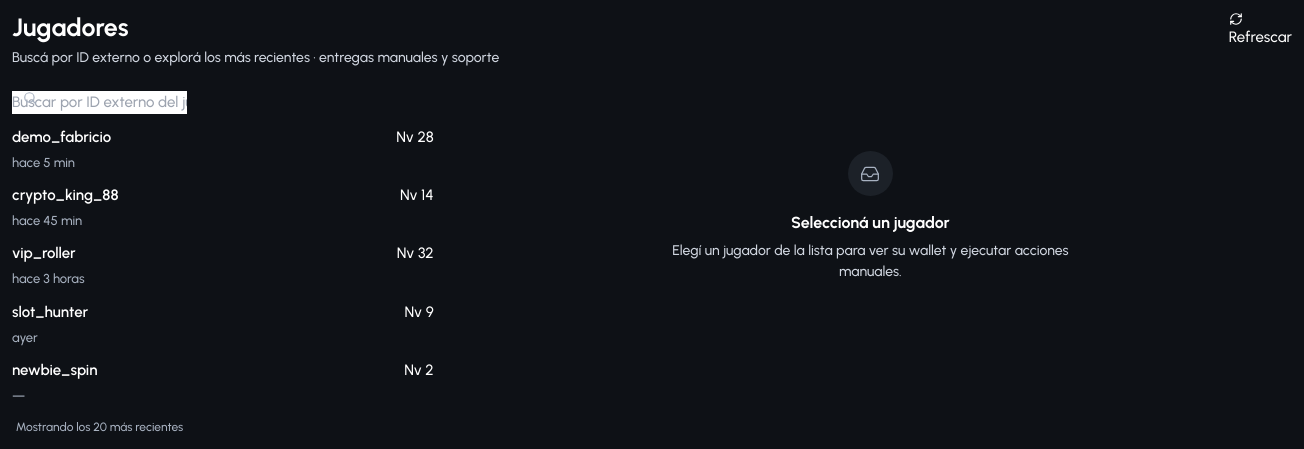
PlayersPage search › filtra jugadores por ID externo con debounce
expect the text "demo_fabricio" is shown: met, box 12,126 -> 111,149
Type "vip" into the field with placeholder "Buscar por ID externo del jugador...".
click(100, 103); type("vip")  # box 12,91 -> 187,114
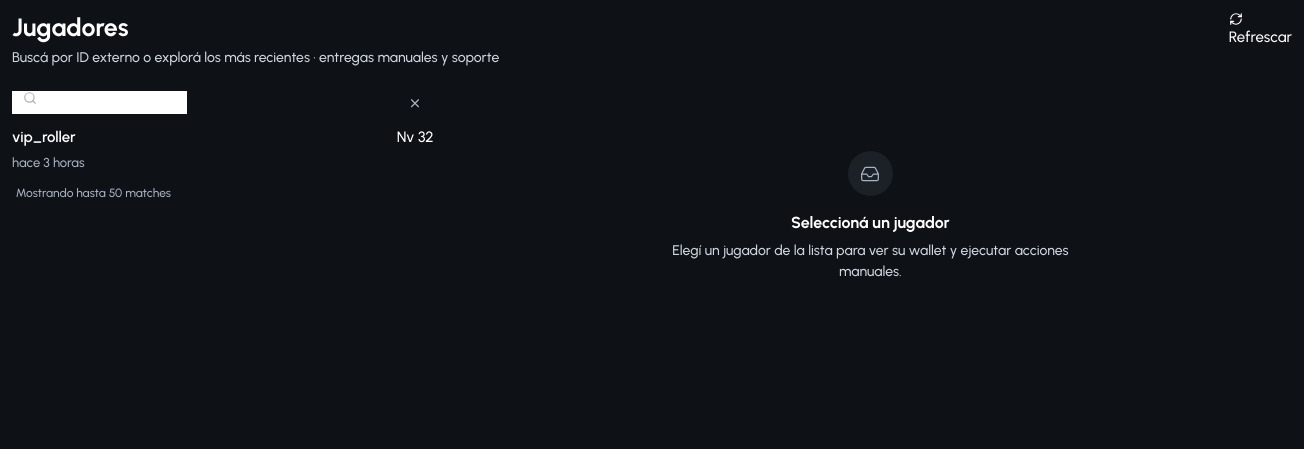
expect the text "vip_roller" is shown: met, box 12,126 -> 84,149
expect the button "demo_fabricio" is gone: met
expect the text "Mostrando hasta 50 matches" is shown: met, box 16,186 -> 171,200
